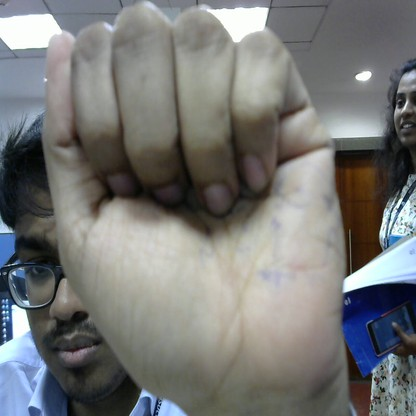a: (44, 2, 352, 398)
